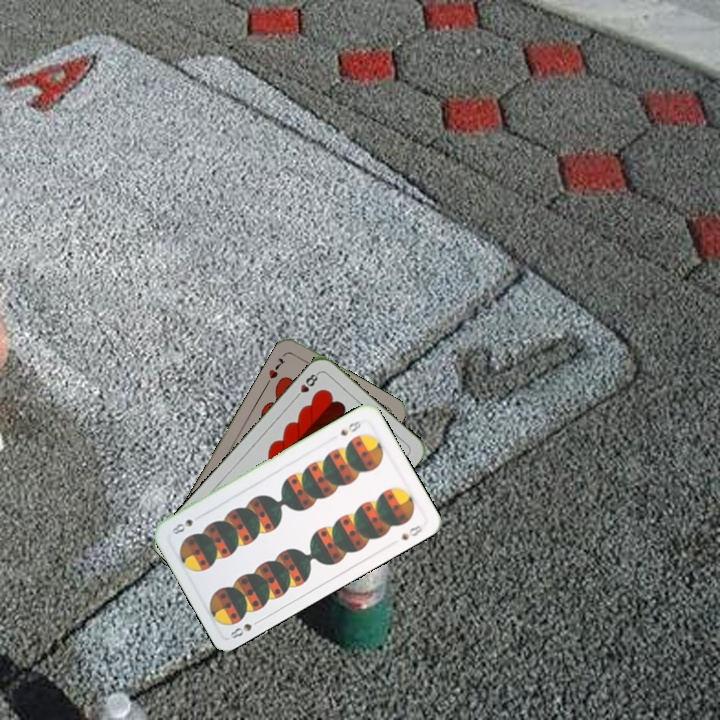H7: (265, 354, 288, 382)
H8: (291, 368, 321, 402)
S8: (226, 615, 264, 641), (336, 416, 364, 438)
